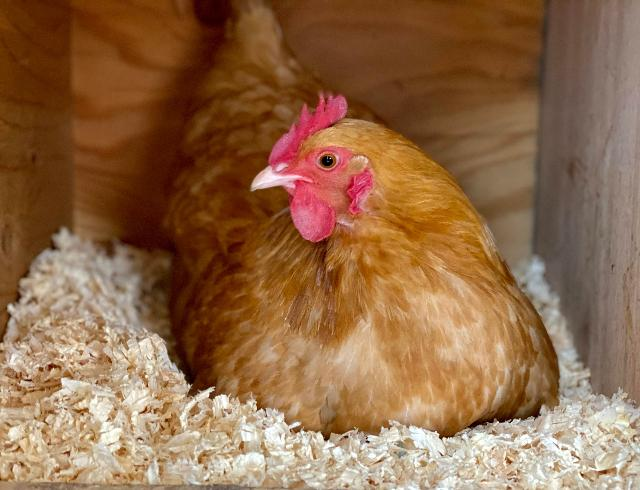Chicken: (165, 0, 561, 437)
